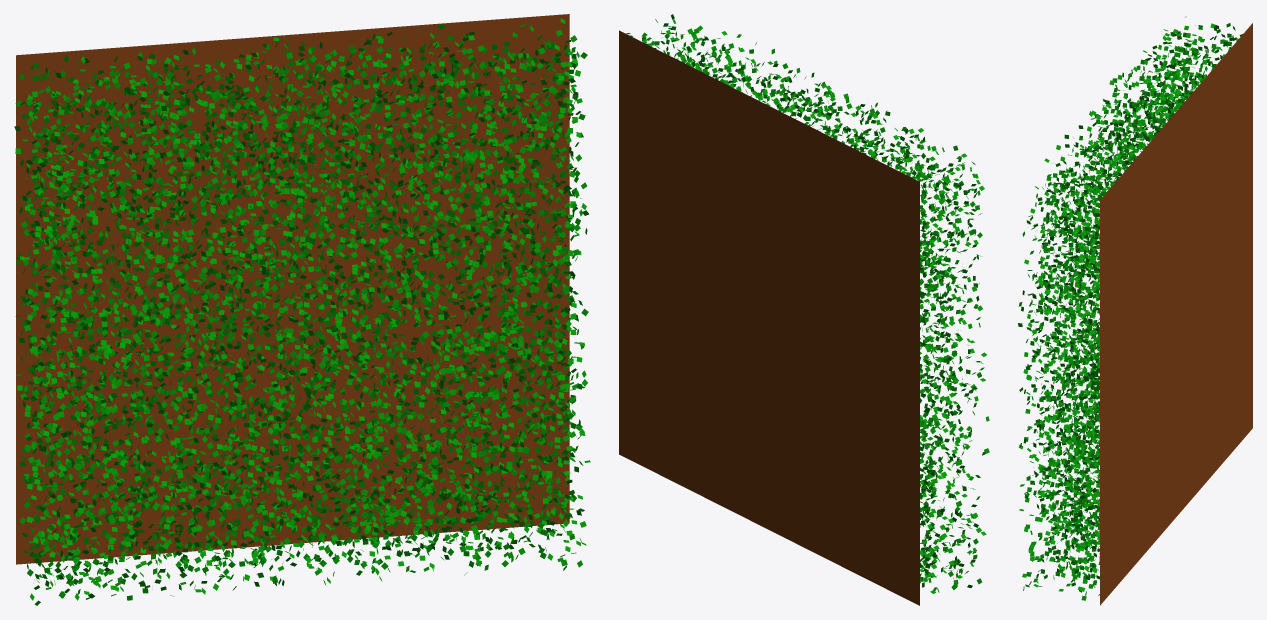
File: upslope-canopy.obj
3 views of the same model, side by side, from view 1: azimuth 30°, elevation 25°; view 2: azimuth 150°, elevation 25°; view 3: azimuth 270°, elevation 25° (orthographic). The views are drawn at different scales.
Size of the model in its own units: 5.05 by 5.06 by 2.62.
